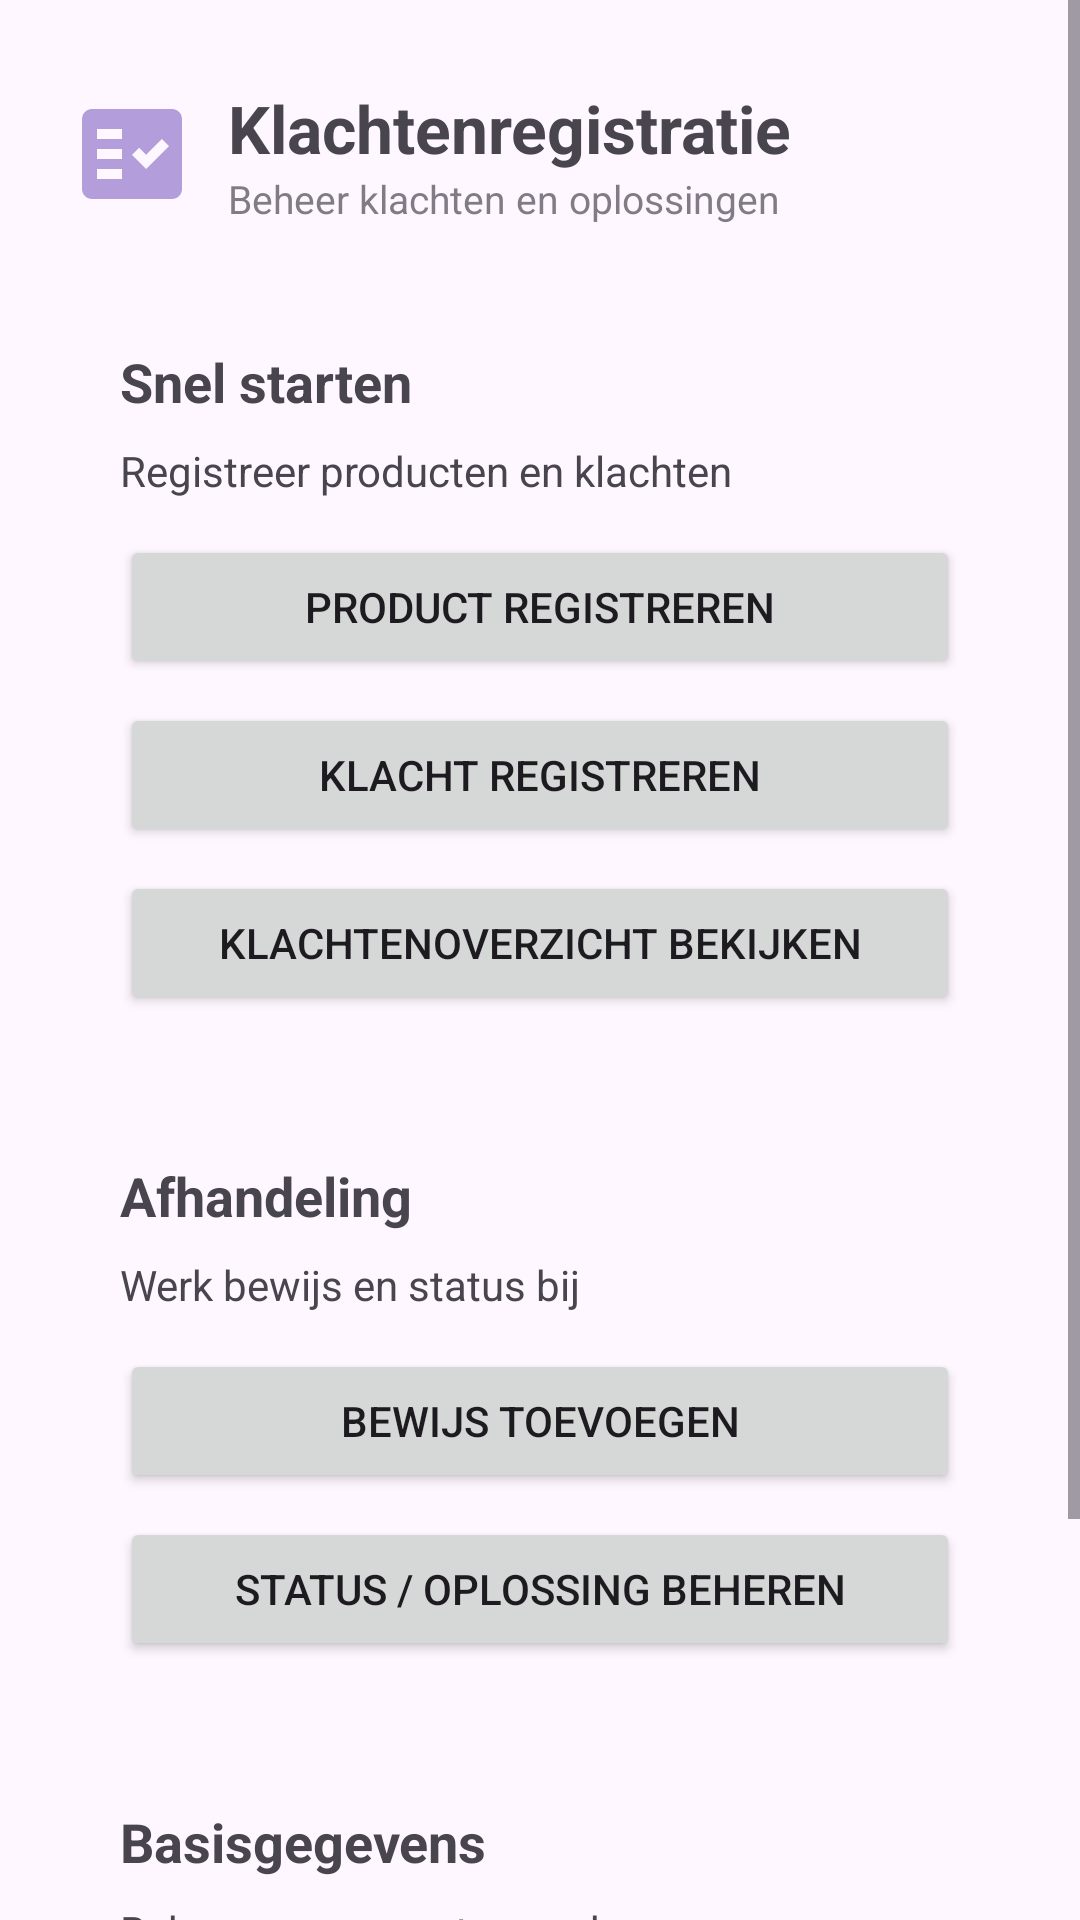

Screen size 1080px×1920px. Icon name, then its center in pixels as (x,y):
fact check: (132,154)
